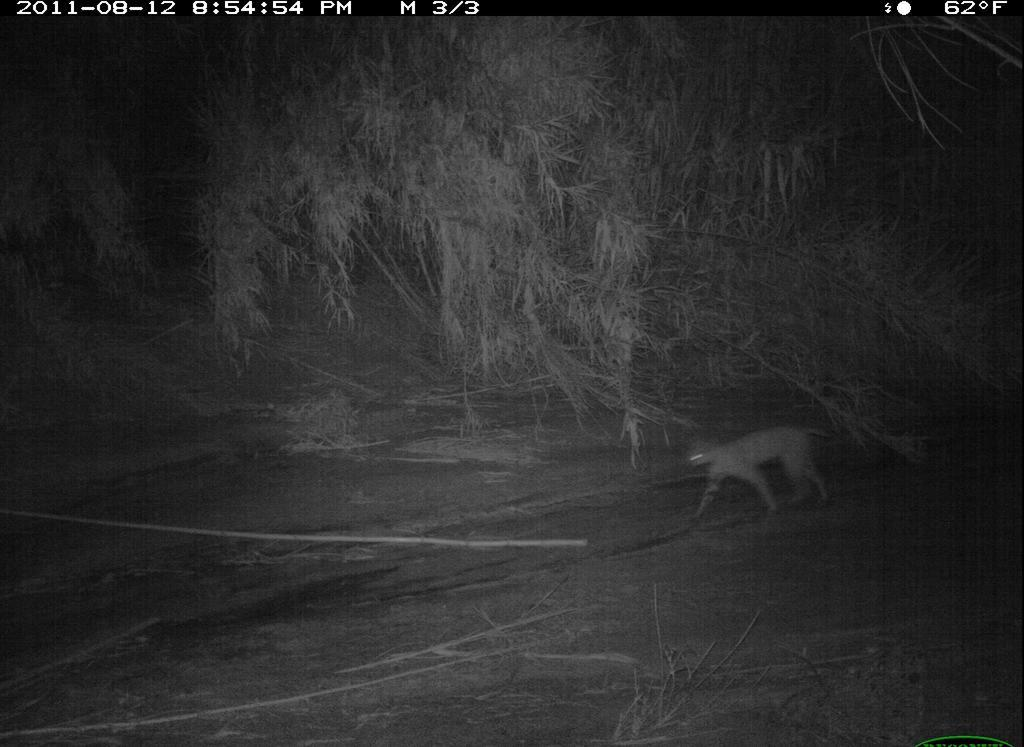bobcat: (683, 415, 831, 527)
